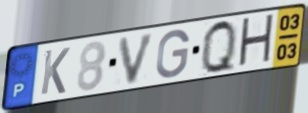8: (74, 39, 109, 94)
G: (154, 28, 192, 80)
H: (235, 12, 276, 72)
K: (38, 46, 72, 98)
Q: (201, 18, 238, 76)
V: (117, 30, 158, 87)
